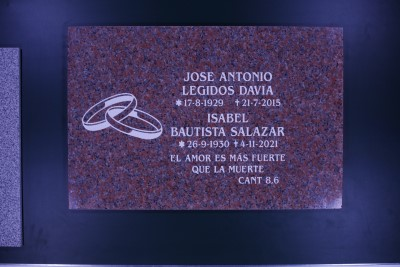lapidas: (67, 25, 343, 211)
